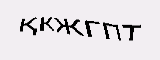Г: (85, 18, 99, 42)
Ж: (53, 15, 88, 41)
К: (39, 12, 57, 33)
П: (99, 19, 121, 42)
Т: (120, 21, 144, 44)
Қ: (16, 14, 40, 34)
